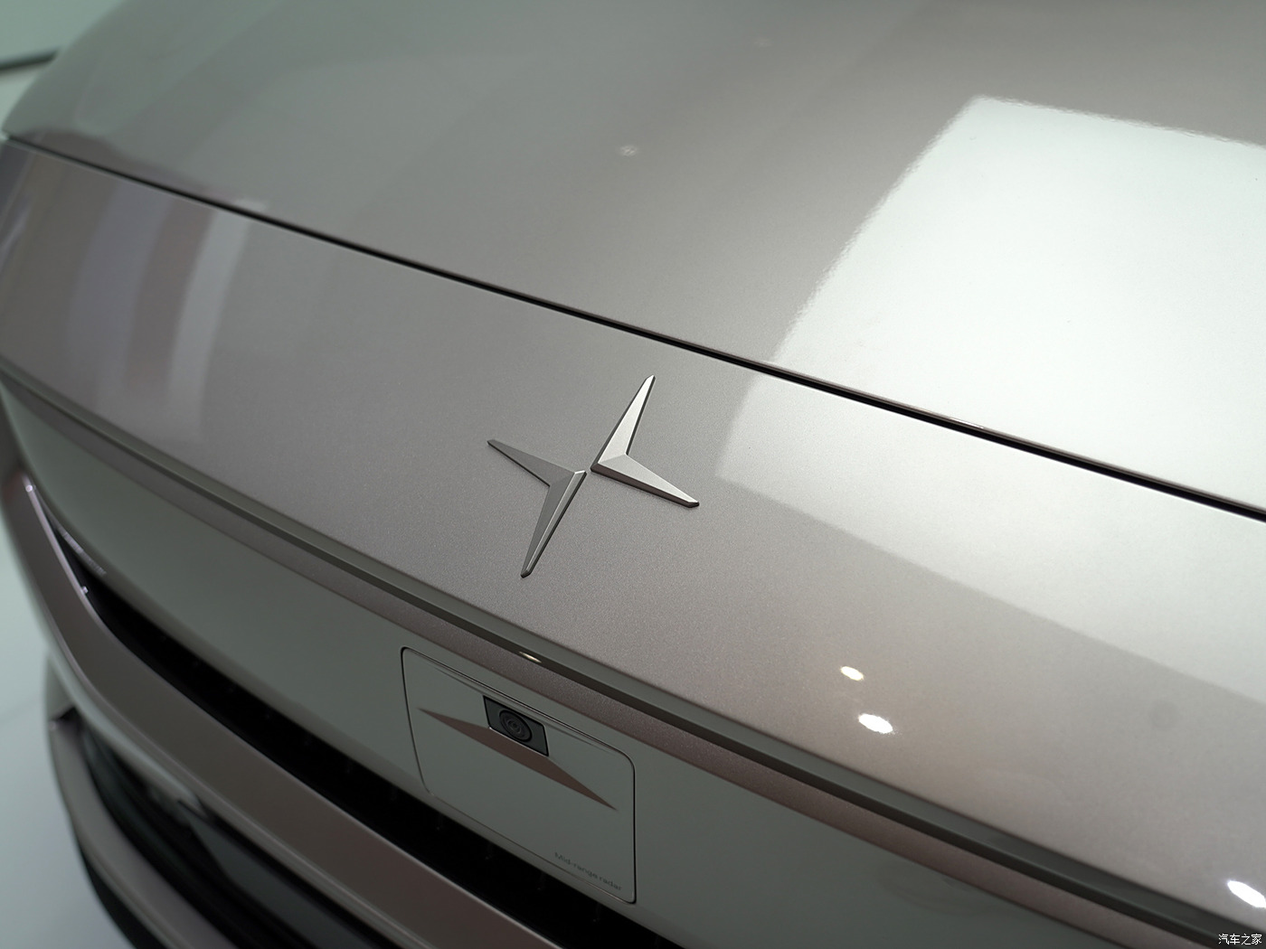Polestar: (487, 376, 700, 577)
